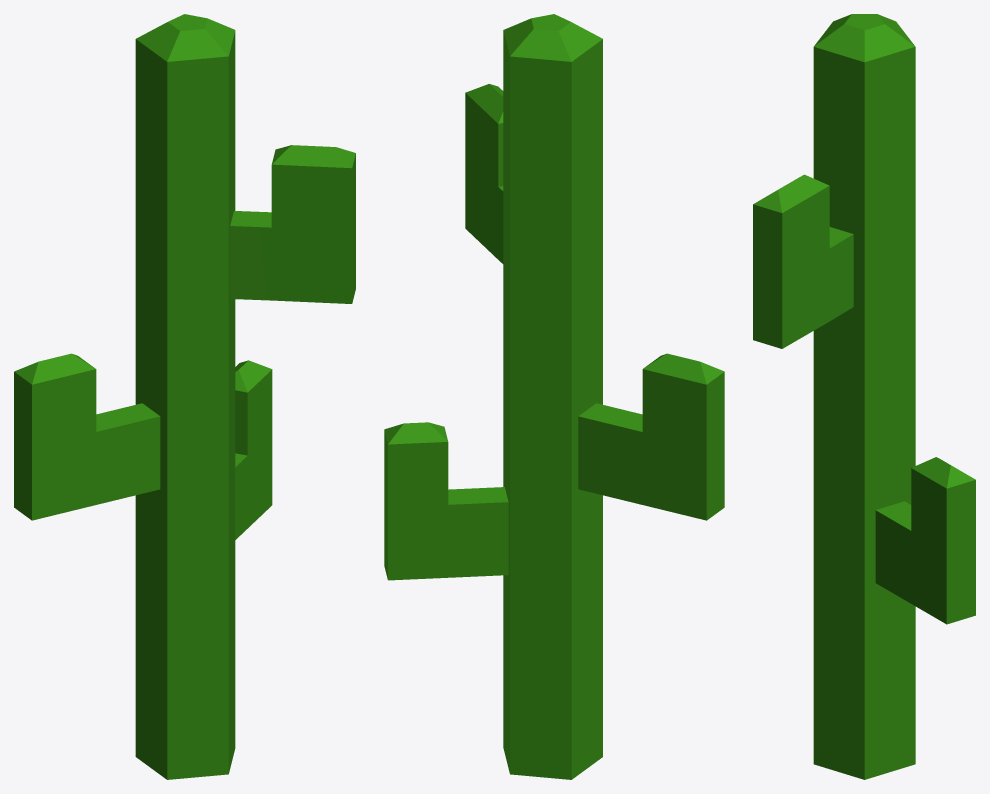
The model's file is saboten.fbx.
3 views of the same model, side by side, from view 1: azimuth 30°, elevation 25°; view 2: azimuth 150°, elevation 25°; view 3: azimuth 270°, elevation 25° (orthographic).
Parts seen in each view (by area): view 1: pCylinder1; view 2: pCylinder1; view 3: pCylinder1.
Part boxes in pixels (x1=…): pCylinder1: x1=14, y1=14, x2=355, y2=779; pCylinder1: x1=384, y1=14, x2=724, y2=779; pCylinder1: x1=753, y1=14, x2=975, y2=779.
Bounding box in the file's own units: 3.17 × 7.64 × 2.1.
